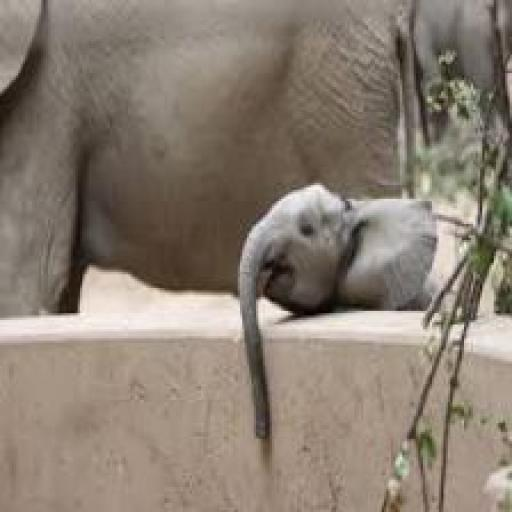Elephant: (217, 153, 474, 463)
